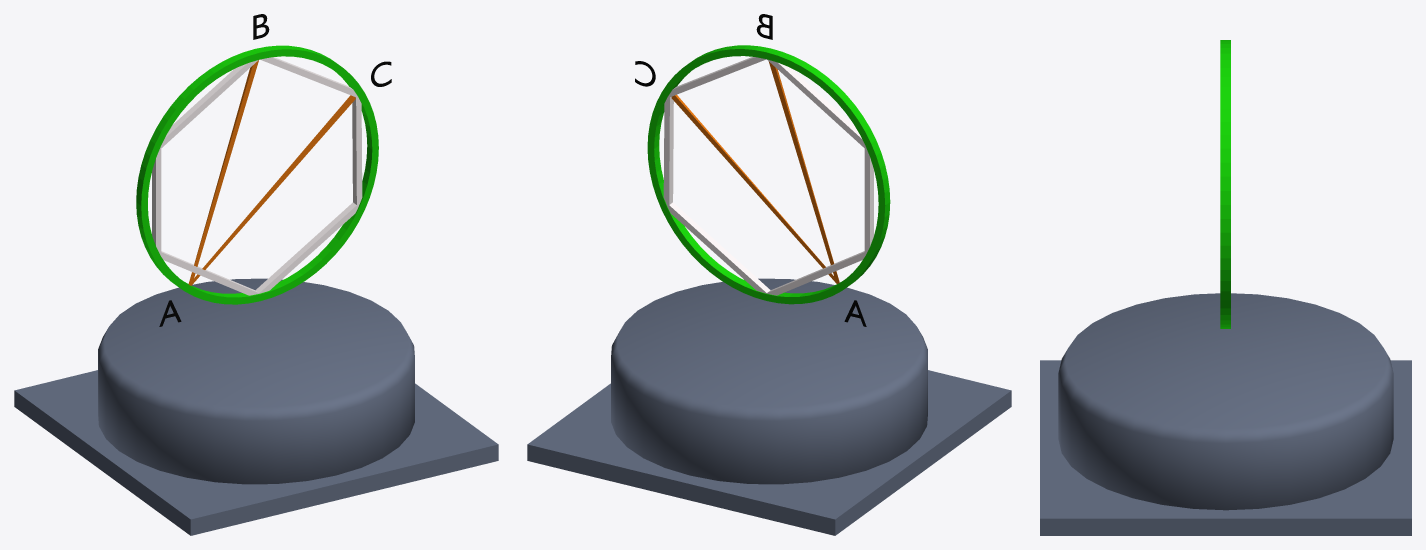
3 views of the same model, side by side, from view 1: azimuth 30°, elevation 25°; view 2: azimuth 150°, elevation 25°; view 3: azimuth 270°, elevation 25° (orthographic). The views are drawn at different scales.
Visible parts, largest first — view 1: подставка, круг мадафака, шестиугольник, улг мадафака; view 2: подставка, круг мадафака, шестиугольник, улг мадафака; view 3: подставка, круг мадафака.
Part boxes in pixels (bbox=[...]): подставка: bbox=[14, 278, 498, 535]; круг мадафака: bbox=[136, 45, 378, 304]; шестиугольник: bbox=[152, 57, 362, 295]; улг мадафака: bbox=[188, 60, 355, 285]; подставка: bbox=[527, 278, 1011, 535]; круг мадафака: bbox=[647, 45, 890, 304]; шестиугольник: bbox=[663, 57, 873, 295]; улг мадафака: bbox=[671, 61, 839, 283]; подставка: bbox=[1040, 293, 1411, 535]; круг мадафака: bbox=[1220, 40, 1230, 328].
Bounding box in the file's own units: 9.15 × 11.9 × 9.09.
